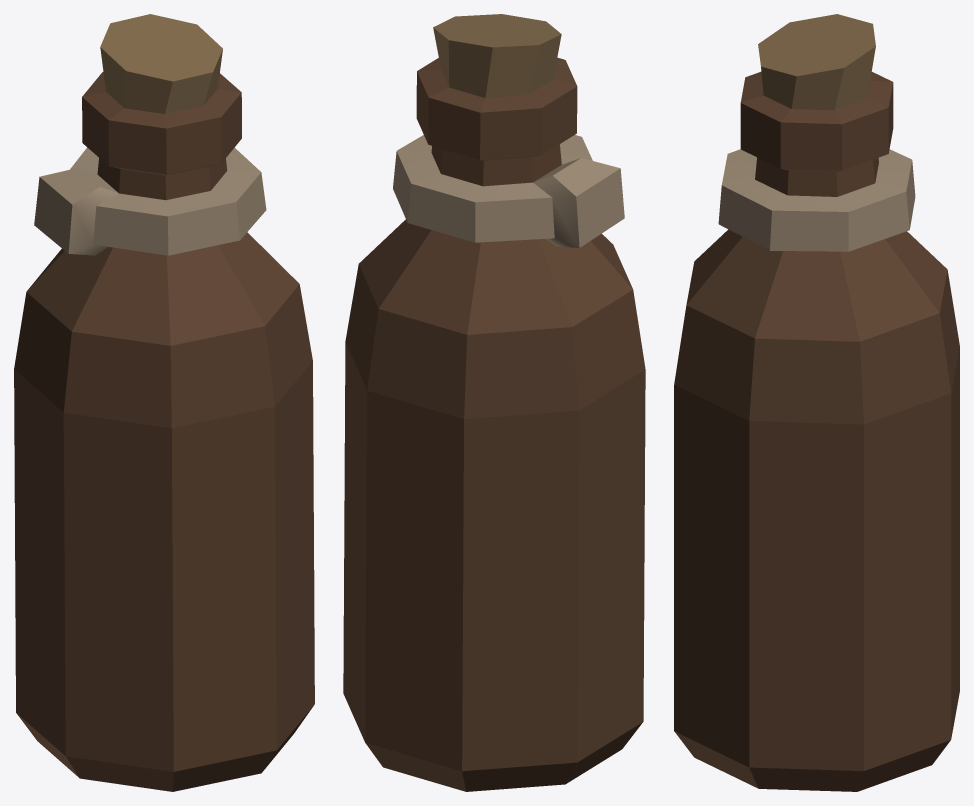
The model's file is SM_Item_Bottle_Attachment_01.glb.
3 renders of one model, left to right at view 1: azimuth 30°, elevation 25°; view 2: azimuth 150°, elevation 25°; view 3: azimuth 270°, elevation 25°, orthographic. The views are drawn at different scales.
Parts seen in each view (by area): view 1: SM_Item_Bottle_Attachment_01; view 2: SM_Item_Bottle_Attachment_01; view 3: SM_Item_Bottle_Attachment_01.
Boxes of the visible parts, box(x1,y1,x2,y2) form: SM_Item_Bottle_Attachment_01: box(14, 14, 314, 791); SM_Item_Bottle_Attachment_01: box(343, 14, 645, 791); SM_Item_Bottle_Attachment_01: box(674, 14, 959, 791).
Bounding box in the file's own units: 0.00123 × 0.00332 × 0.00122.
